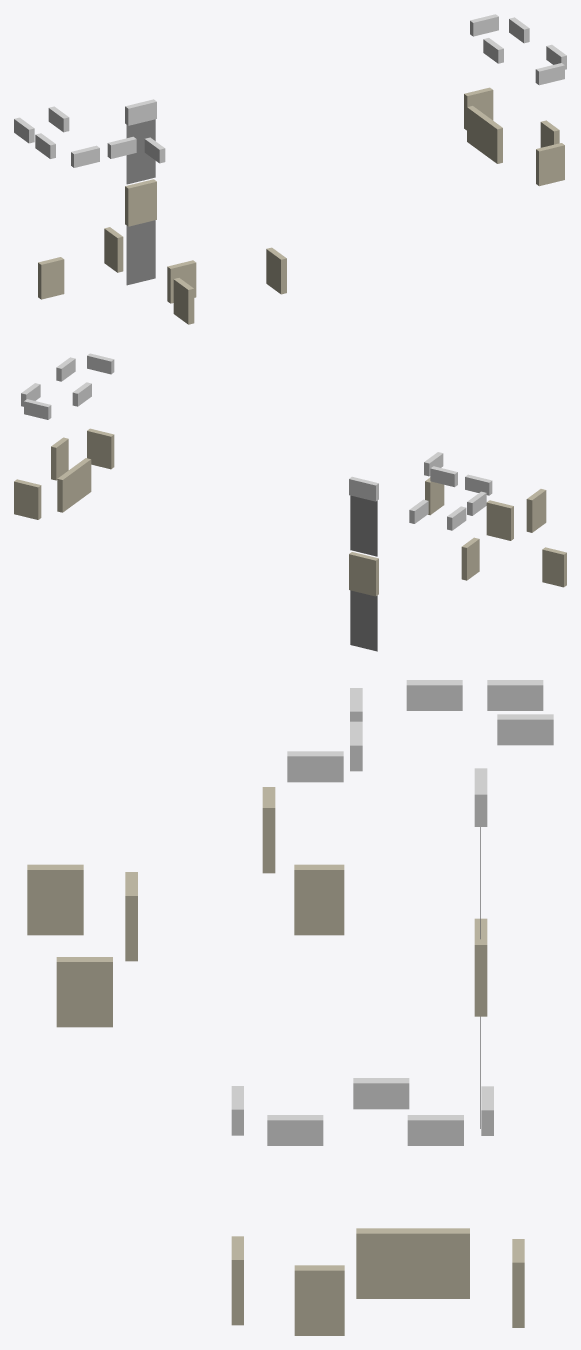
Rendered from menshang.obj.
3 renders of one model, top to bottom at view 1: azimuth 30°, elevation 25°; view 2: azimuth 150°, elevation 25°; view 3: azimuth 270°, elevation 25°, orthographic. The views are drawn at different scales.
Visible parts, largest first — view 1: Rectangle294573184, Rectangle294573176, Shape010, Shape005, Shape015, Shape012, Shape011, Shape007, Shape014, Shape013, Shape009, Line1789790228 (+8 smaller); view 2: Rectangle294573184, Rectangle294573176, Shape010, Shape009, Shape013, Shape005, Shape015, Shape012, Shape008, Shape014, Shape006, Line1789790228 (+6 smaller); view 3: Shape008, Shape012, Shape007, Shape011, Shape014, Shape006, Line1789790221, Line1789790222, Line1789790223, Line1789790219, Line1789790220, Line1789790225 (+7 smaller).
Part boxes in pixels (x1,y1,x2,y2): Rectangle294573184: [126, 220, 155, 285]; Rectangle294573176: [126, 119, 155, 184]; Shape010: [125, 179, 156, 226]; Shape005: [536, 143, 564, 186]; Shape015: [38, 257, 64, 299]; Shape012: [173, 278, 194, 324]; Shape011: [266, 247, 286, 294]; Shape007: [482, 117, 502, 163]; Shape014: [104, 227, 123, 272]; Shape013: [167, 260, 196, 303]; Shape009: [464, 87, 493, 130]; Line1789790228: [125, 99, 156, 125]; Rectangle294573184: [350, 590, 377, 651]; Rectangle294573176: [350, 495, 377, 556]; Shape010: [349, 552, 378, 596]; Shape009: [14, 479, 41, 519]; Shape013: [486, 500, 513, 540]; Shape005: [87, 428, 114, 469]; Shape015: [542, 547, 566, 587]; Shape012: [526, 489, 546, 532]; Shape008: [57, 468, 76, 512]; Shape014: [461, 537, 479, 580]; Shape006: [51, 437, 68, 480]; Line1789790228: [349, 476, 378, 501]; Shape008: [412, 1228, 469, 1298]; Shape012: [27, 864, 83, 935]; Shape007: [356, 1228, 412, 1298]; Shape011: [56, 957, 112, 1027]; Shape014: [294, 864, 344, 935]; Shape006: [294, 1265, 344, 1335]; Line1789790221: [497, 714, 553, 745]; Line1789790222: [287, 751, 343, 782]; Line1789790223: [353, 1078, 409, 1109]; Line1789790219: [406, 680, 462, 710]; Line1789790220: [487, 680, 543, 710]; Line1789790225: [407, 1115, 463, 1145].
Bounding box in the file's own units: 183 × 59.14 × 84.34.
